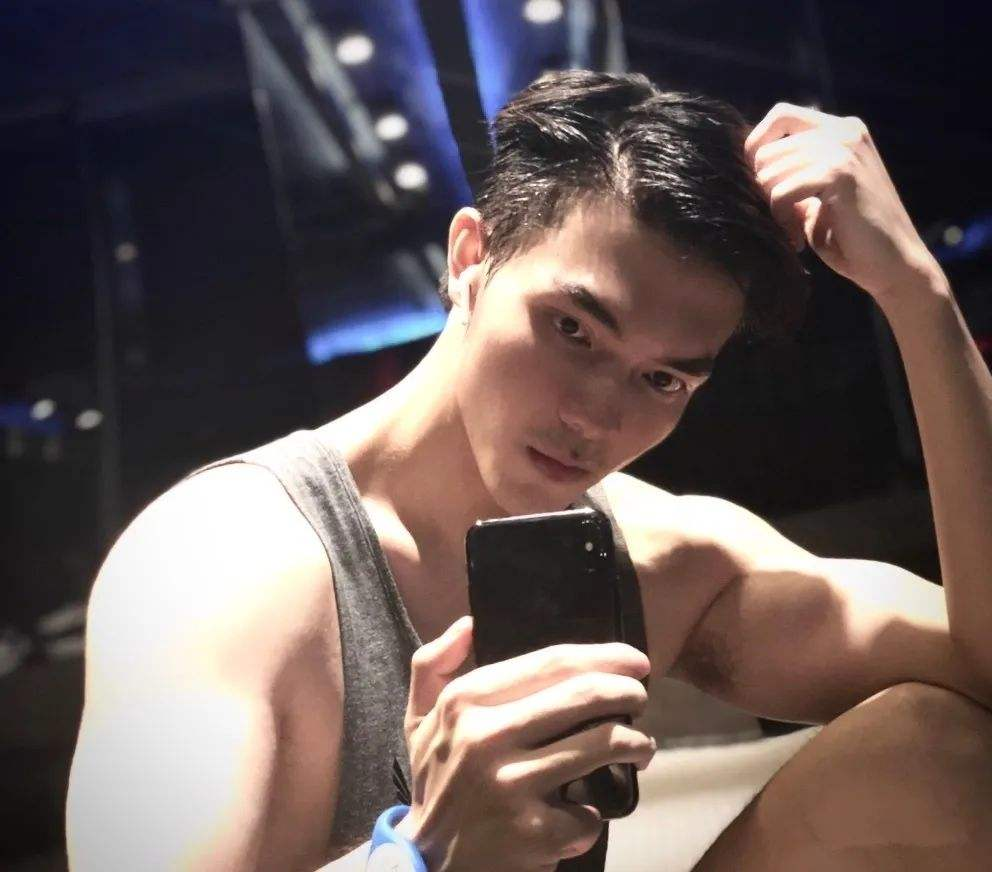person: (147, 97, 861, 870)
